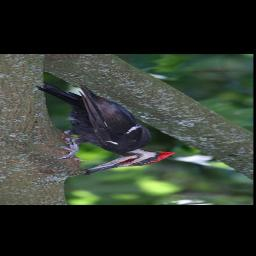Woodpecker: (35, 82, 177, 174)
